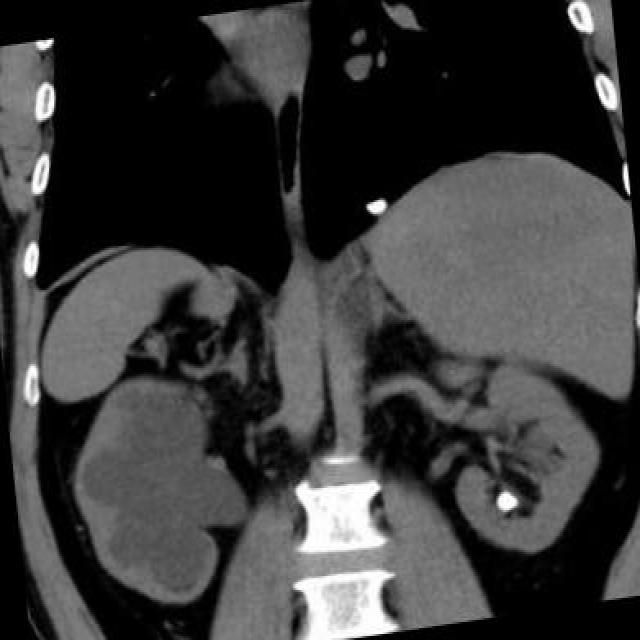Tas_Var: (489, 487, 524, 519)
